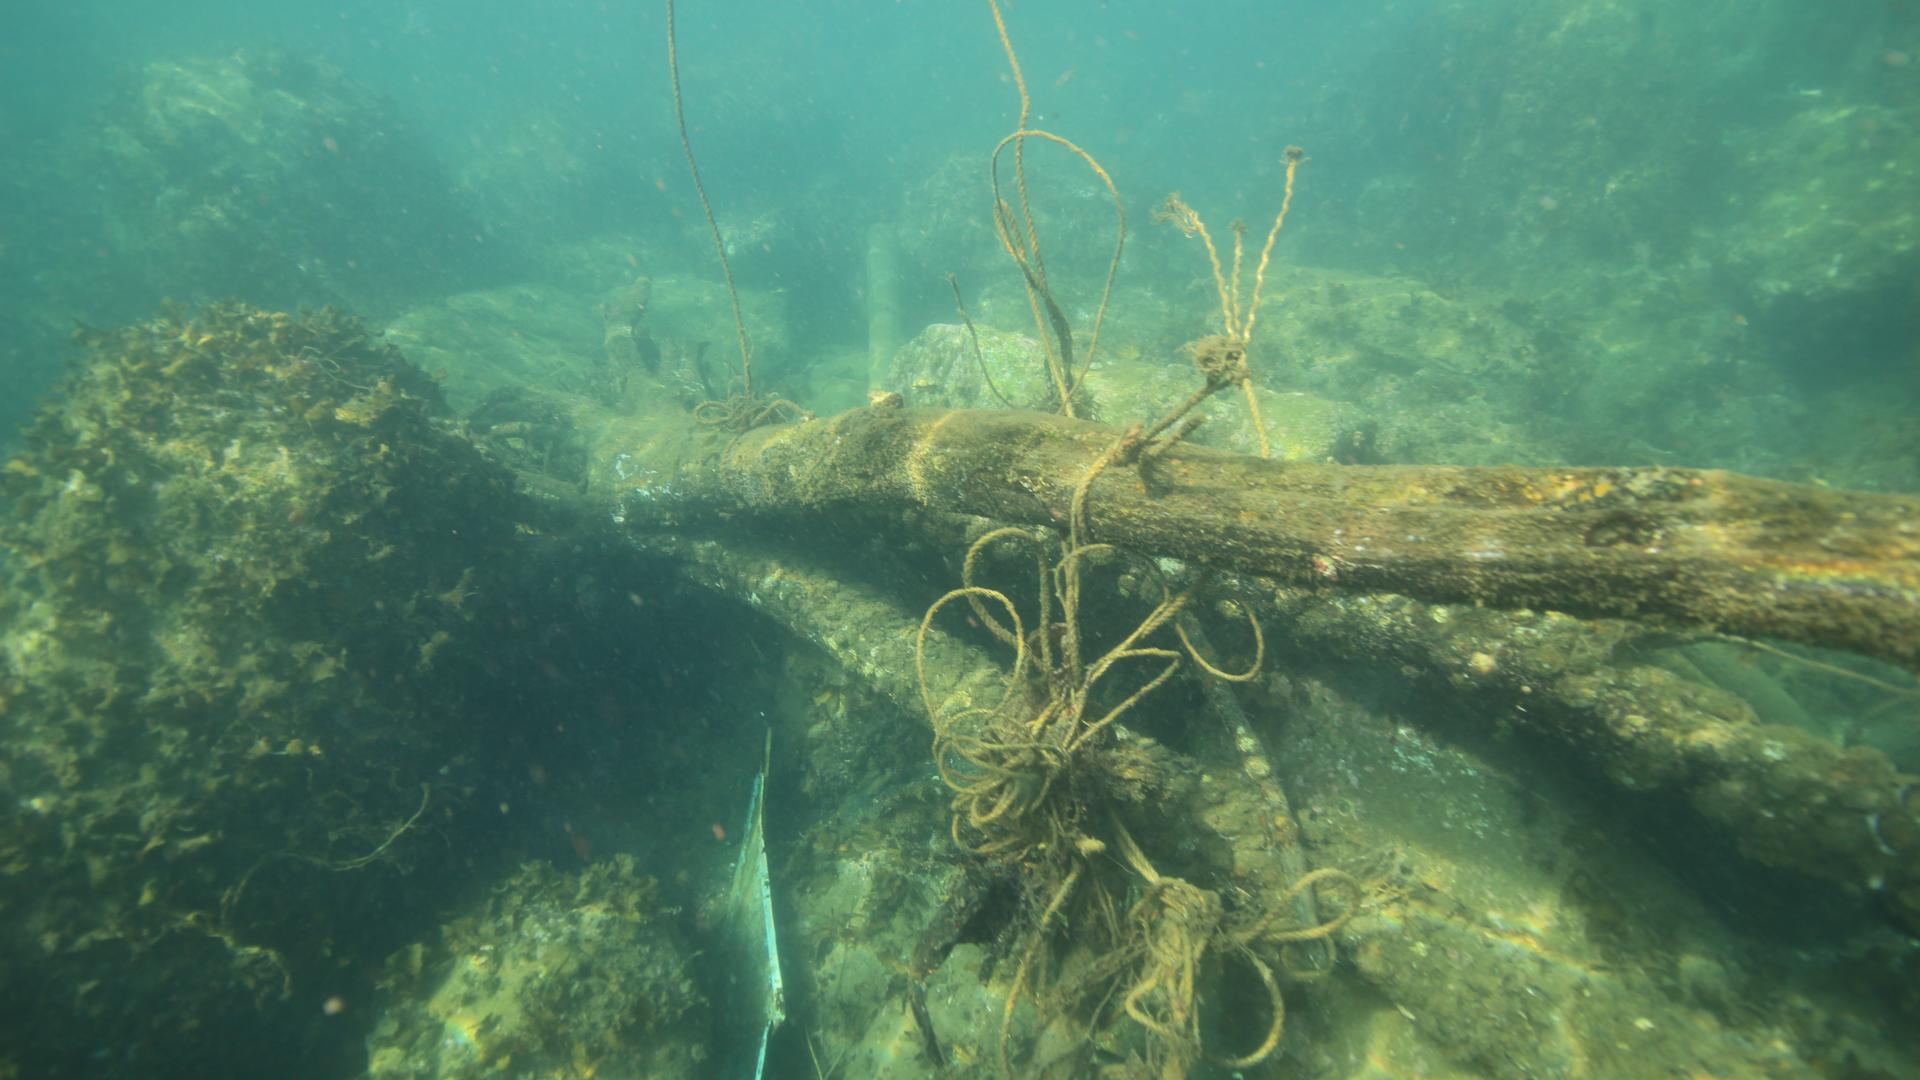bundle of ropes: (916, 0, 1358, 1080), (663, 0, 820, 517)
wood: (504, 280, 1920, 1080)
